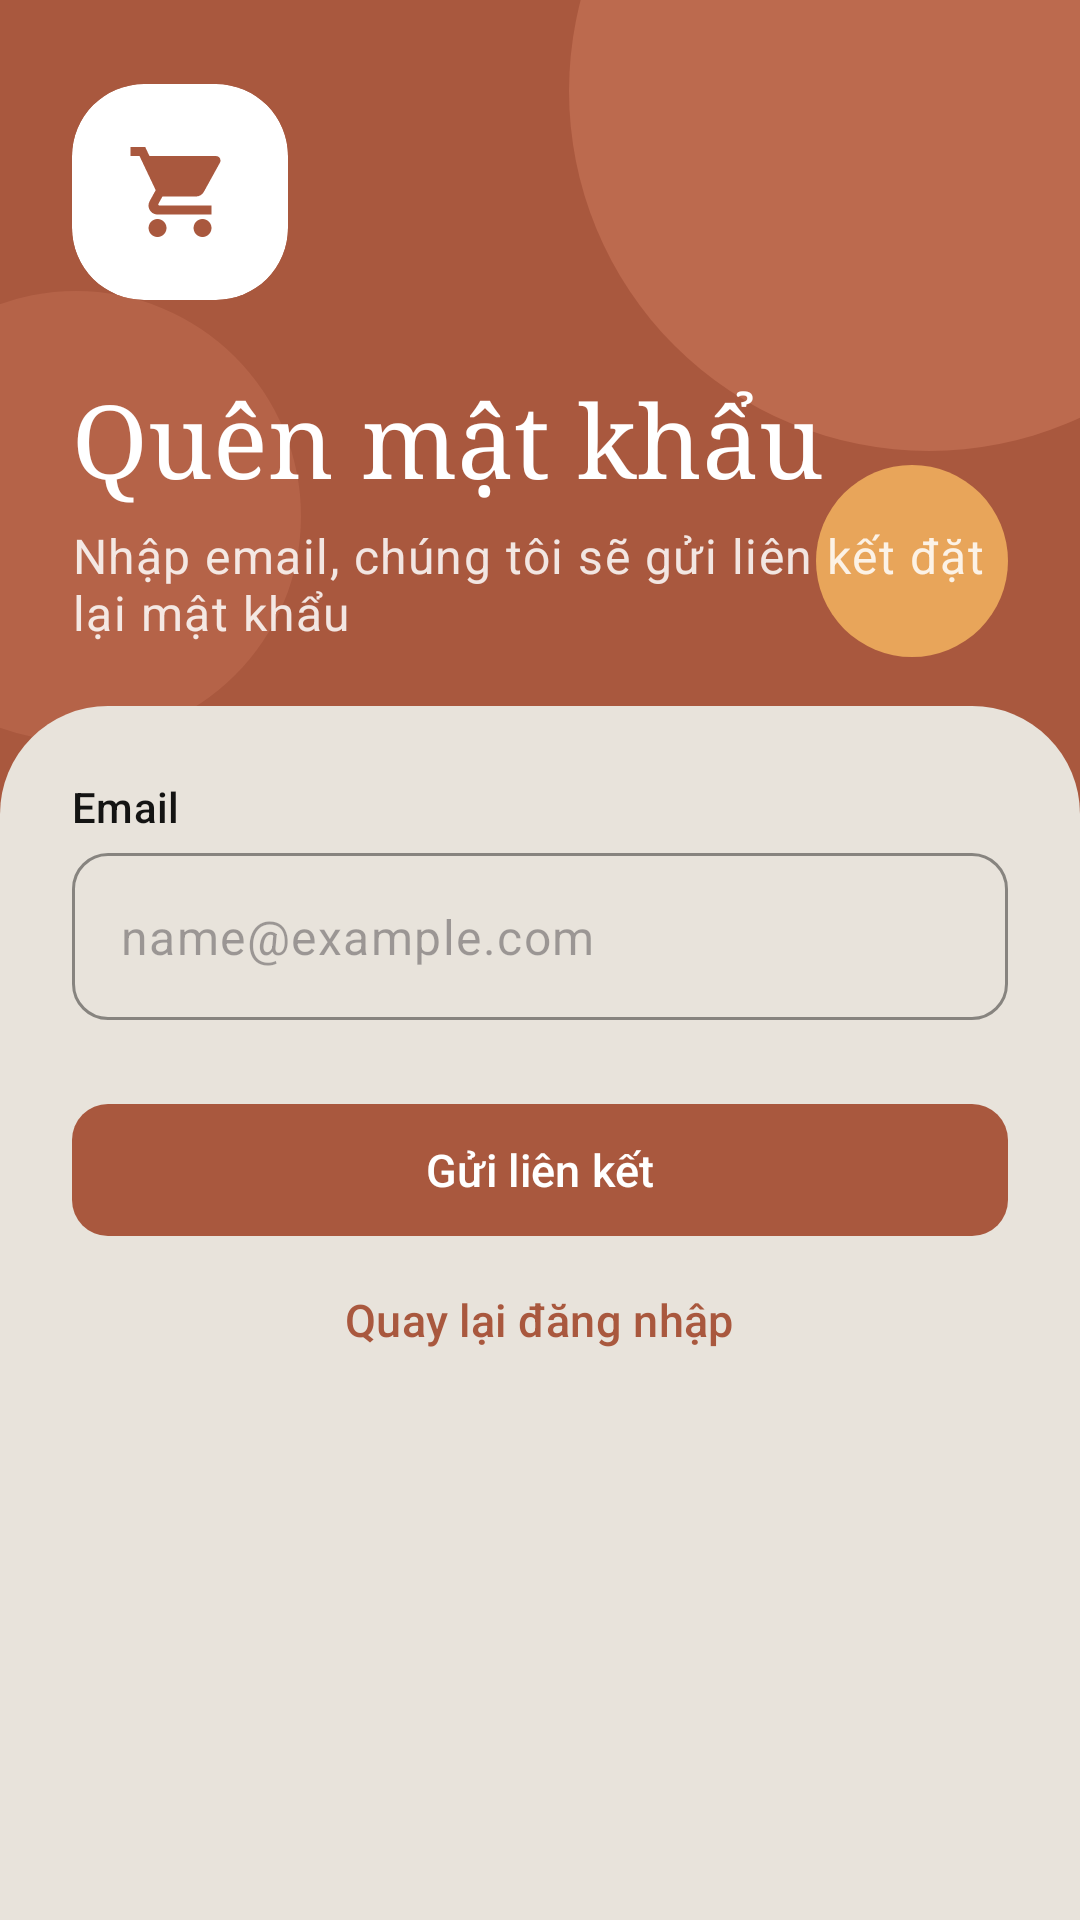

Icons on this 1080x1920 Android screen, each with its box as (x1=x1, y1=y1, x2=x2, y2=y2):
shopping: (x1=130, y1=147, x2=221, y2=237)
